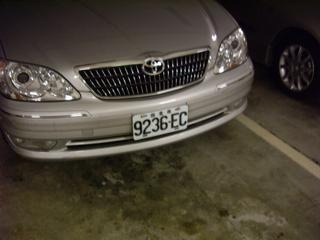plate: (130, 108, 189, 136)
